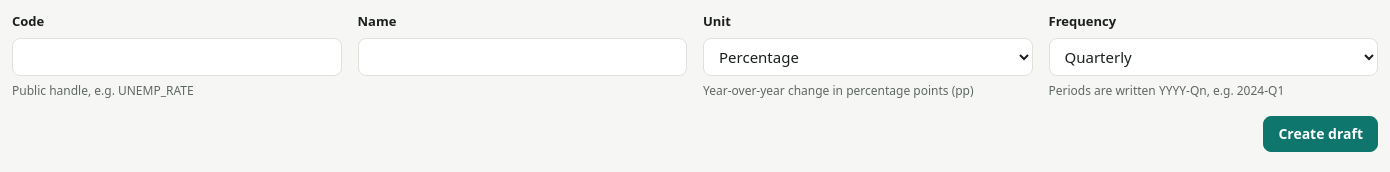
IndicatorForm › explains the variation that the chosen unit implies
Expected: the text "Year-over-year change in percentage points (pp)" is shown, [703,82,974,98]
Select "Count" in the dropdown labelled "Unit". click: {"x": 868, "y": 56}
box: [703,38,1032,76]
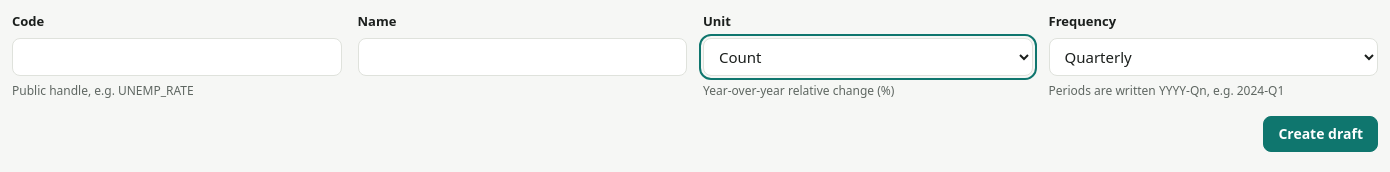
Expected: the text "Year-over-year relative change (%)" is shown, [703,82,894,98]
